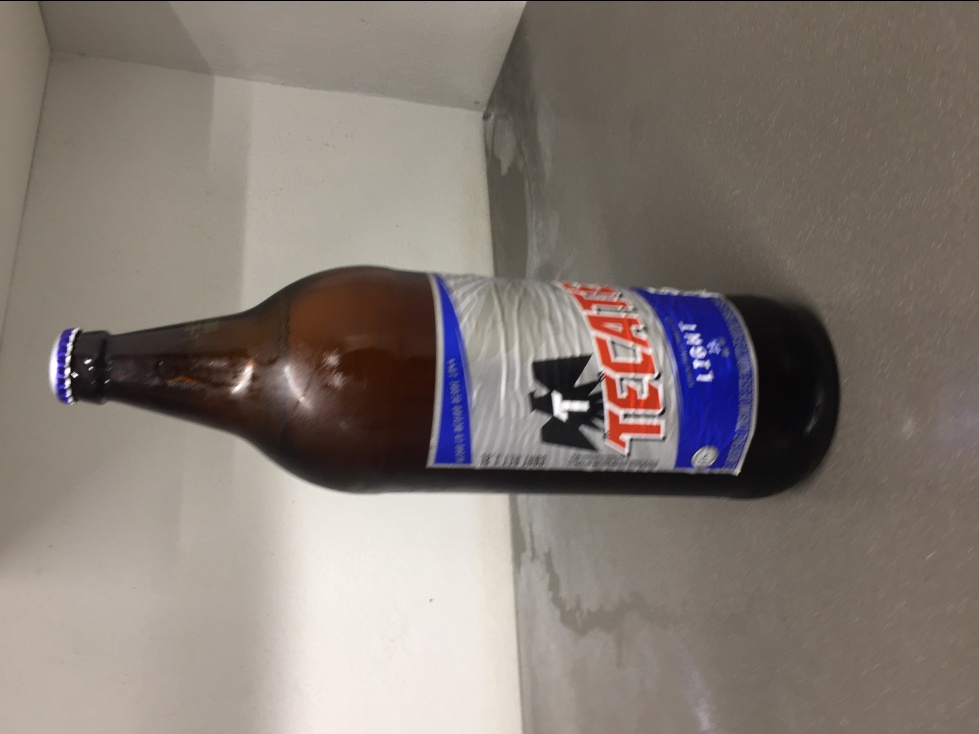tecateC: (48, 270, 841, 498)
